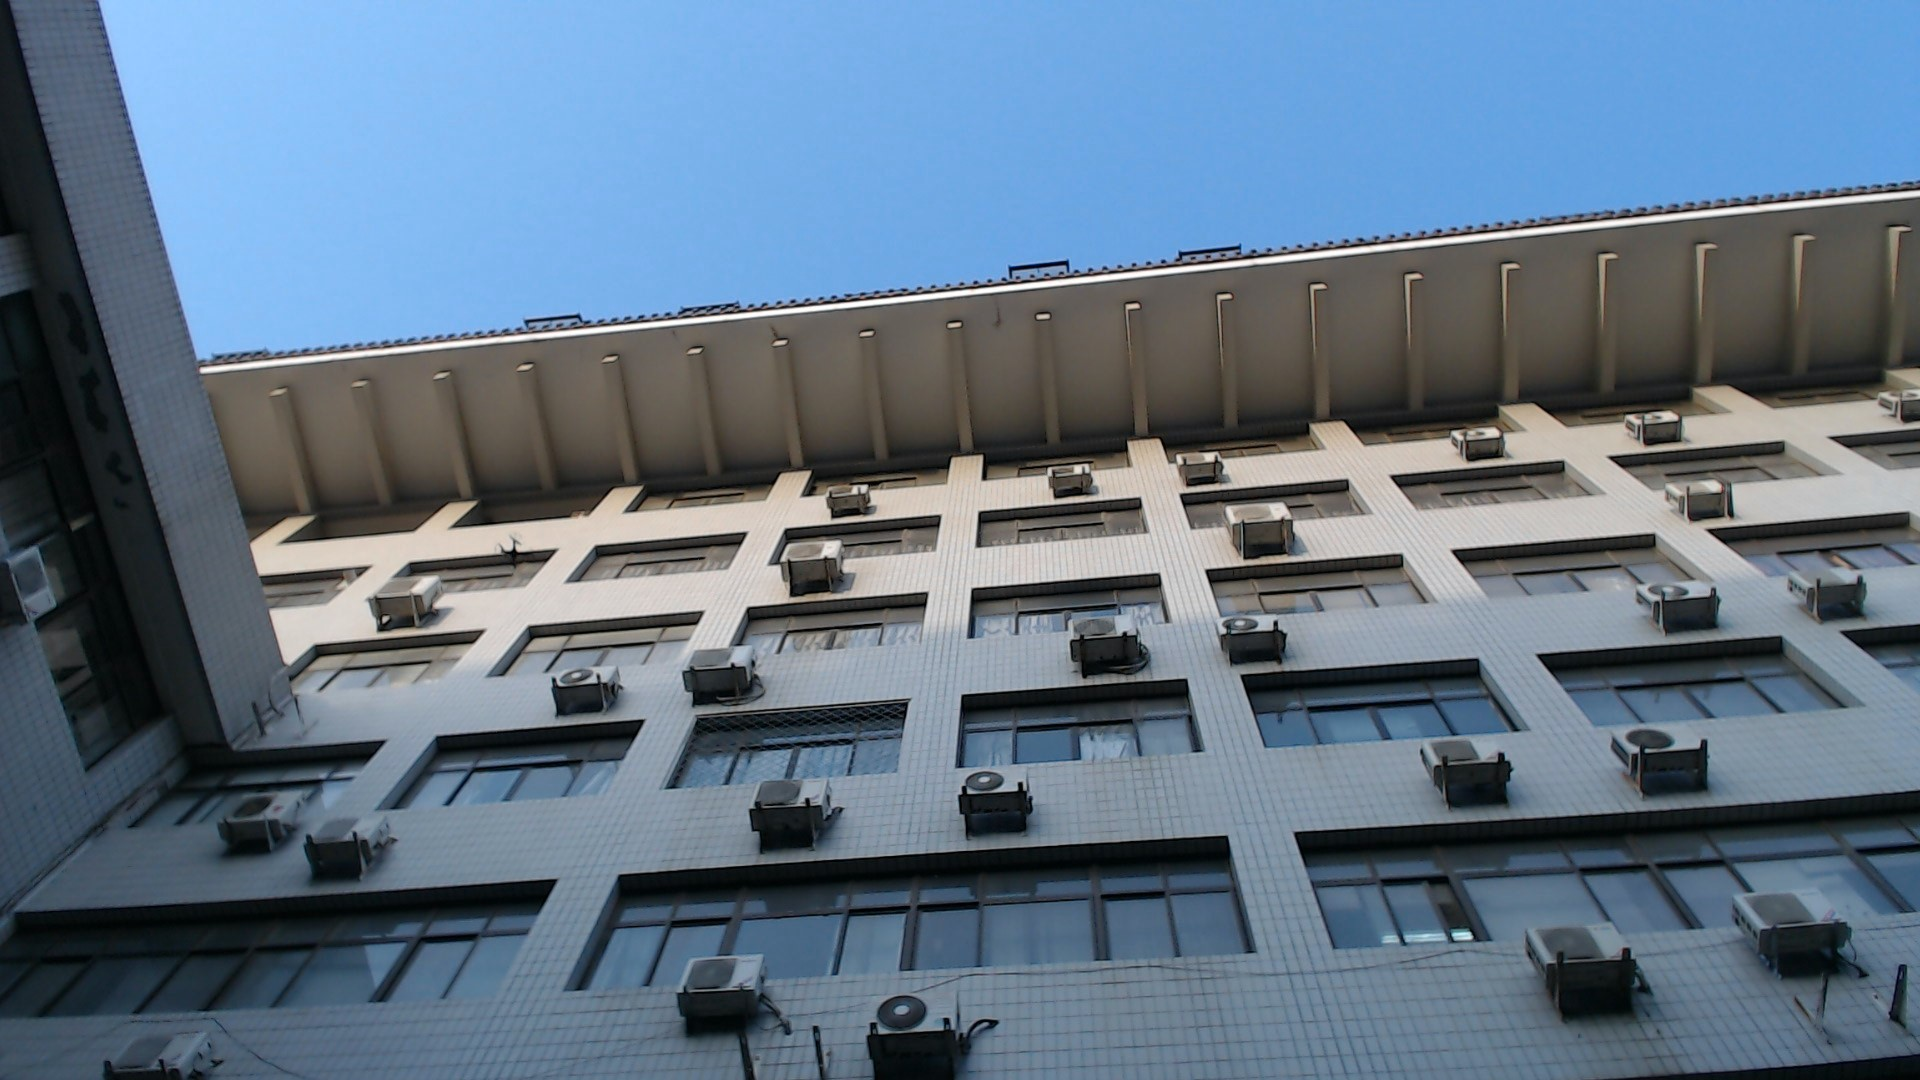drone: (476, 527, 554, 587)
